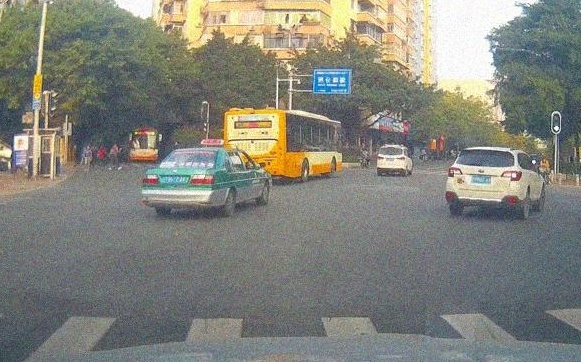L_light: (142, 174, 159, 185), (447, 167, 463, 177), (377, 156, 384, 159)
R_light: (190, 173, 215, 185), (501, 170, 522, 181), (397, 156, 405, 160)
T_light: (186, 150, 198, 152), (482, 150, 492, 152), (387, 147, 394, 148)
day-no: (141, 146, 221, 216), (376, 145, 406, 176)
day-right: (445, 146, 523, 218)
